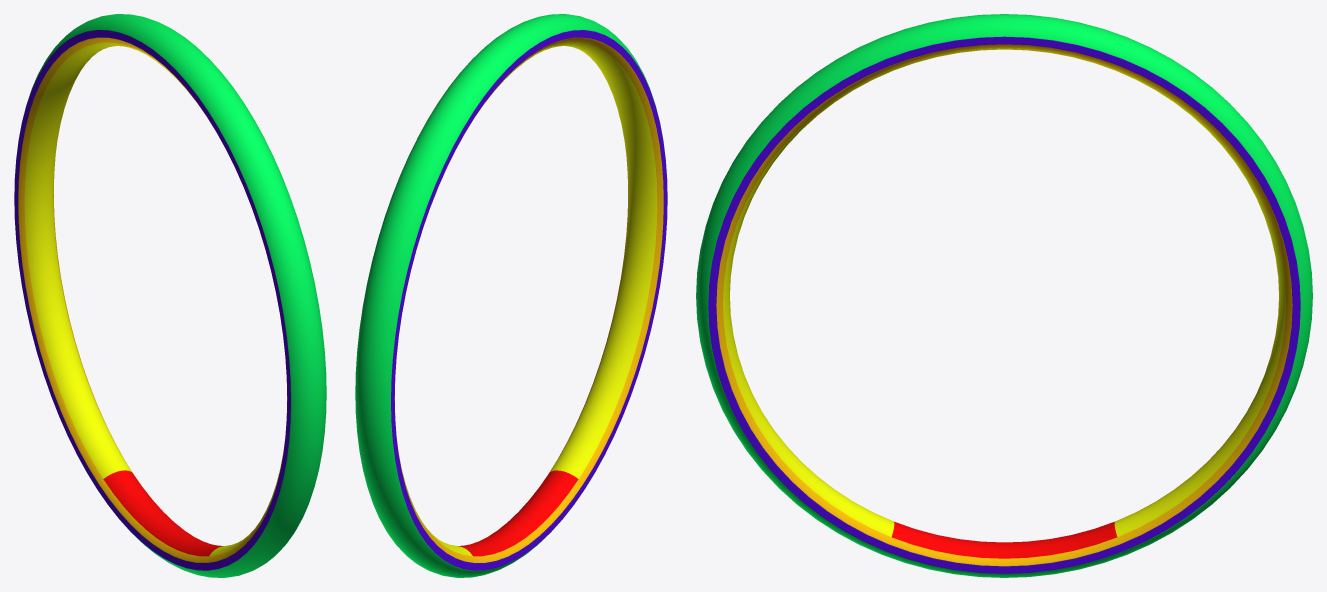
The picture shows the model from 3 angles, left to right: view 1: azimuth 30°, elevation 25°; view 2: azimuth 150°, elevation 25°; view 3: azimuth 270°, elevation 25°; orthographic projection. The views are drawn at different scales.
Visible parts, largest first — view 1: AB; view 2: AB; view 3: AB.
Part boxes in pixels (x1,y1,x2,y2): AB: [14, 14, 326, 577]; AB: [355, 14, 667, 577]; AB: [696, 14, 1312, 577].
Size of the model in its own units: 0.0015 by 0.0209 by 0.0209.
